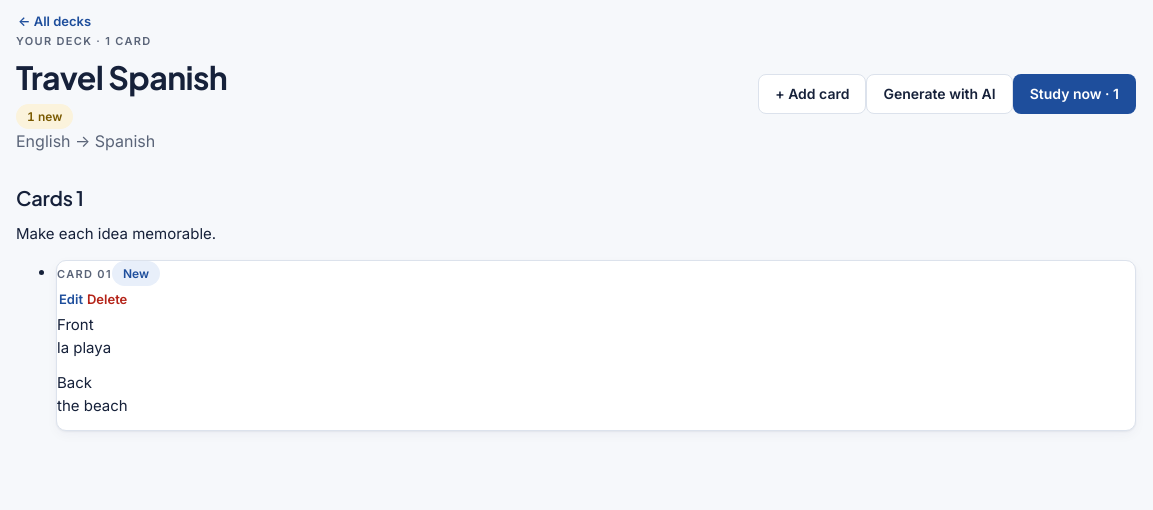
deleting the last card drops its count from the badge
This screenshot has width=1153, height=510.
Expected: the text "1 new" is shown, [16, 104, 73, 129]
Click the button with aria-label "Delete card 1" at (107, 300), box [85, 286, 129, 313]
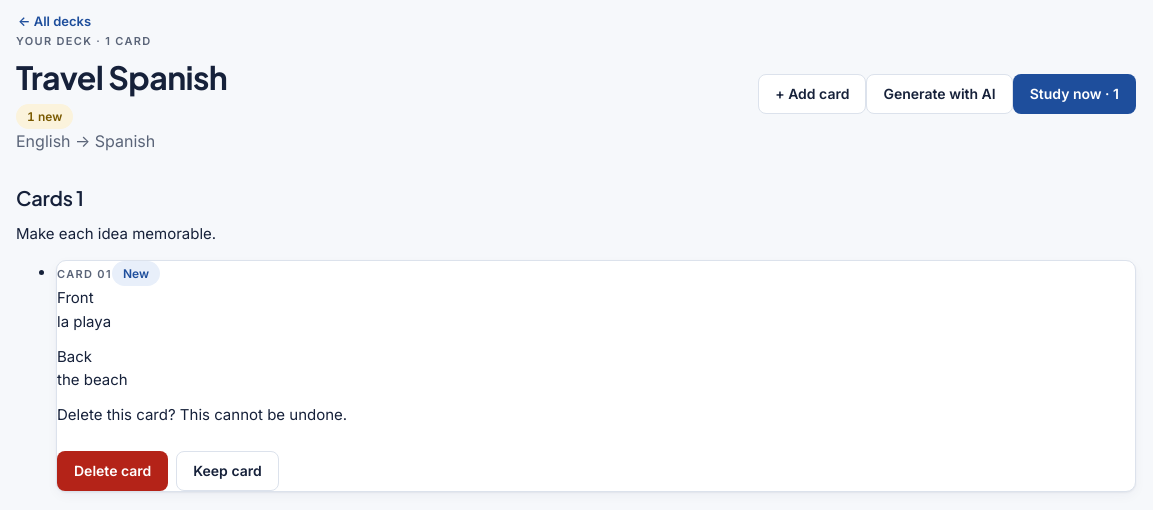
Click the button "Delete card" at (113, 471), box [57, 451, 168, 491]
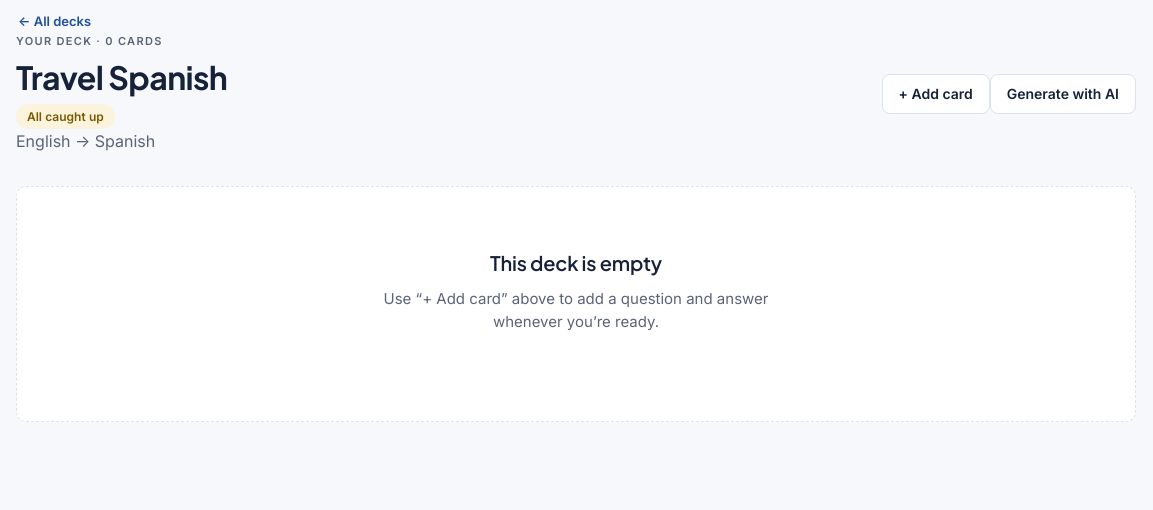
Expected: the text "All caught up" is shown, [16, 104, 115, 129]
Expected: the text "1 new" is gone
Expected: the button "Study now" is gone
